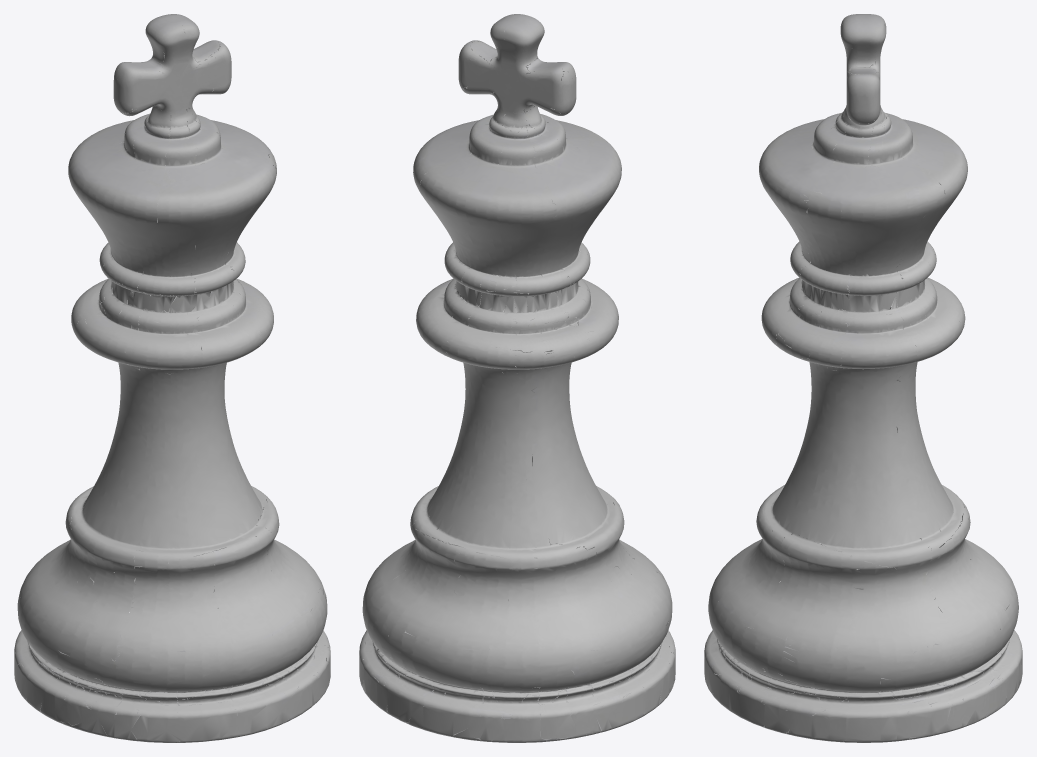
The model's file is king.glb.
3 views of the same model, side by side, from view 1: azimuth 30°, elevation 25°; view 2: azimuth 150°, elevation 25°; view 3: azimuth 270°, elevation 25° (orthographic).
Size of the model in its own units: 27246 by 62353 by 27258.
1 material, 1 textured.
